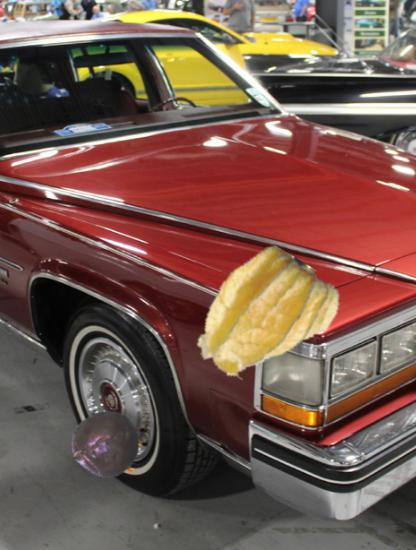Passion: (71, 407, 144, 480)
Physalis: (198, 252, 336, 390)
